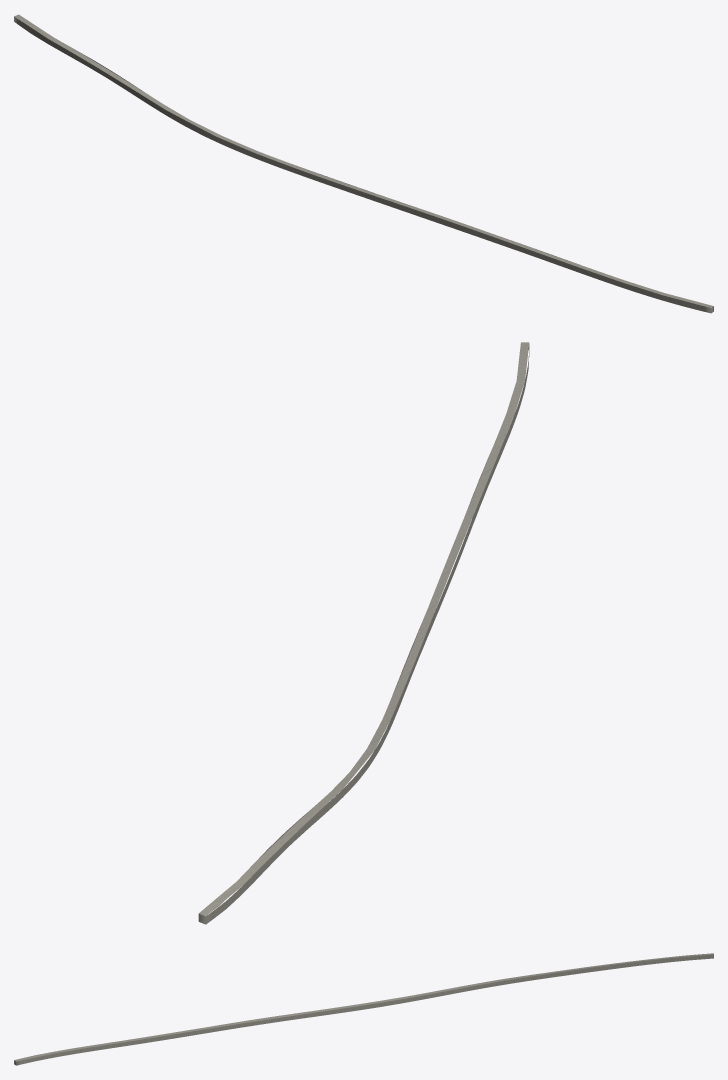
The model's file is curb_08.gltf.
3 renders of one model, top to bottom at view 1: azimuth 30°, elevation 25°; view 2: azimuth 150°, elevation 25°; view 3: azimuth 270°, elevation 25°, orthographic. The views are drawn at different scales.
Parts seen in each view (by area): view 1: curb_08.sides, curb_08.surface; view 2: curb_08.surface, curb_08.sides; view 3: curb_08.sides, curb_08.surface.
Part boxes in pixels (x1=…): curb_08.sides: x1=14, y1=16, x2=713, y2=313; curb_08.surface: x1=14, y1=14, x2=713, y2=308; curb_08.surface: x1=199, y1=342, x2=529, y2=916; curb_08.sides: x1=198, y1=344, x2=529, y2=924; curb_08.sides: x1=14, y1=954, x2=713, y2=1065; curb_08.surface: x1=14, y1=953, x2=713, y2=1061.
Bounding box in the file's own units: 7.84 × 0.8165 × 24.82.
Materials: 1 (1 with a texture image).
